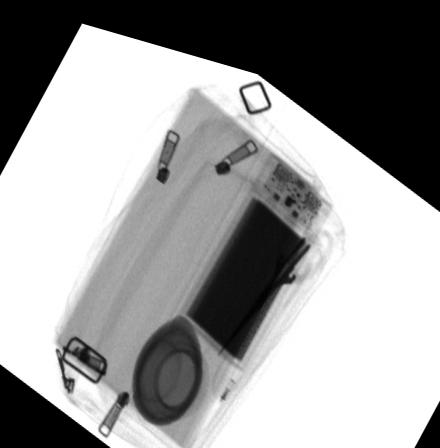Powerbank: (174, 131, 338, 358)
Scissors: (214, 188, 333, 348)
